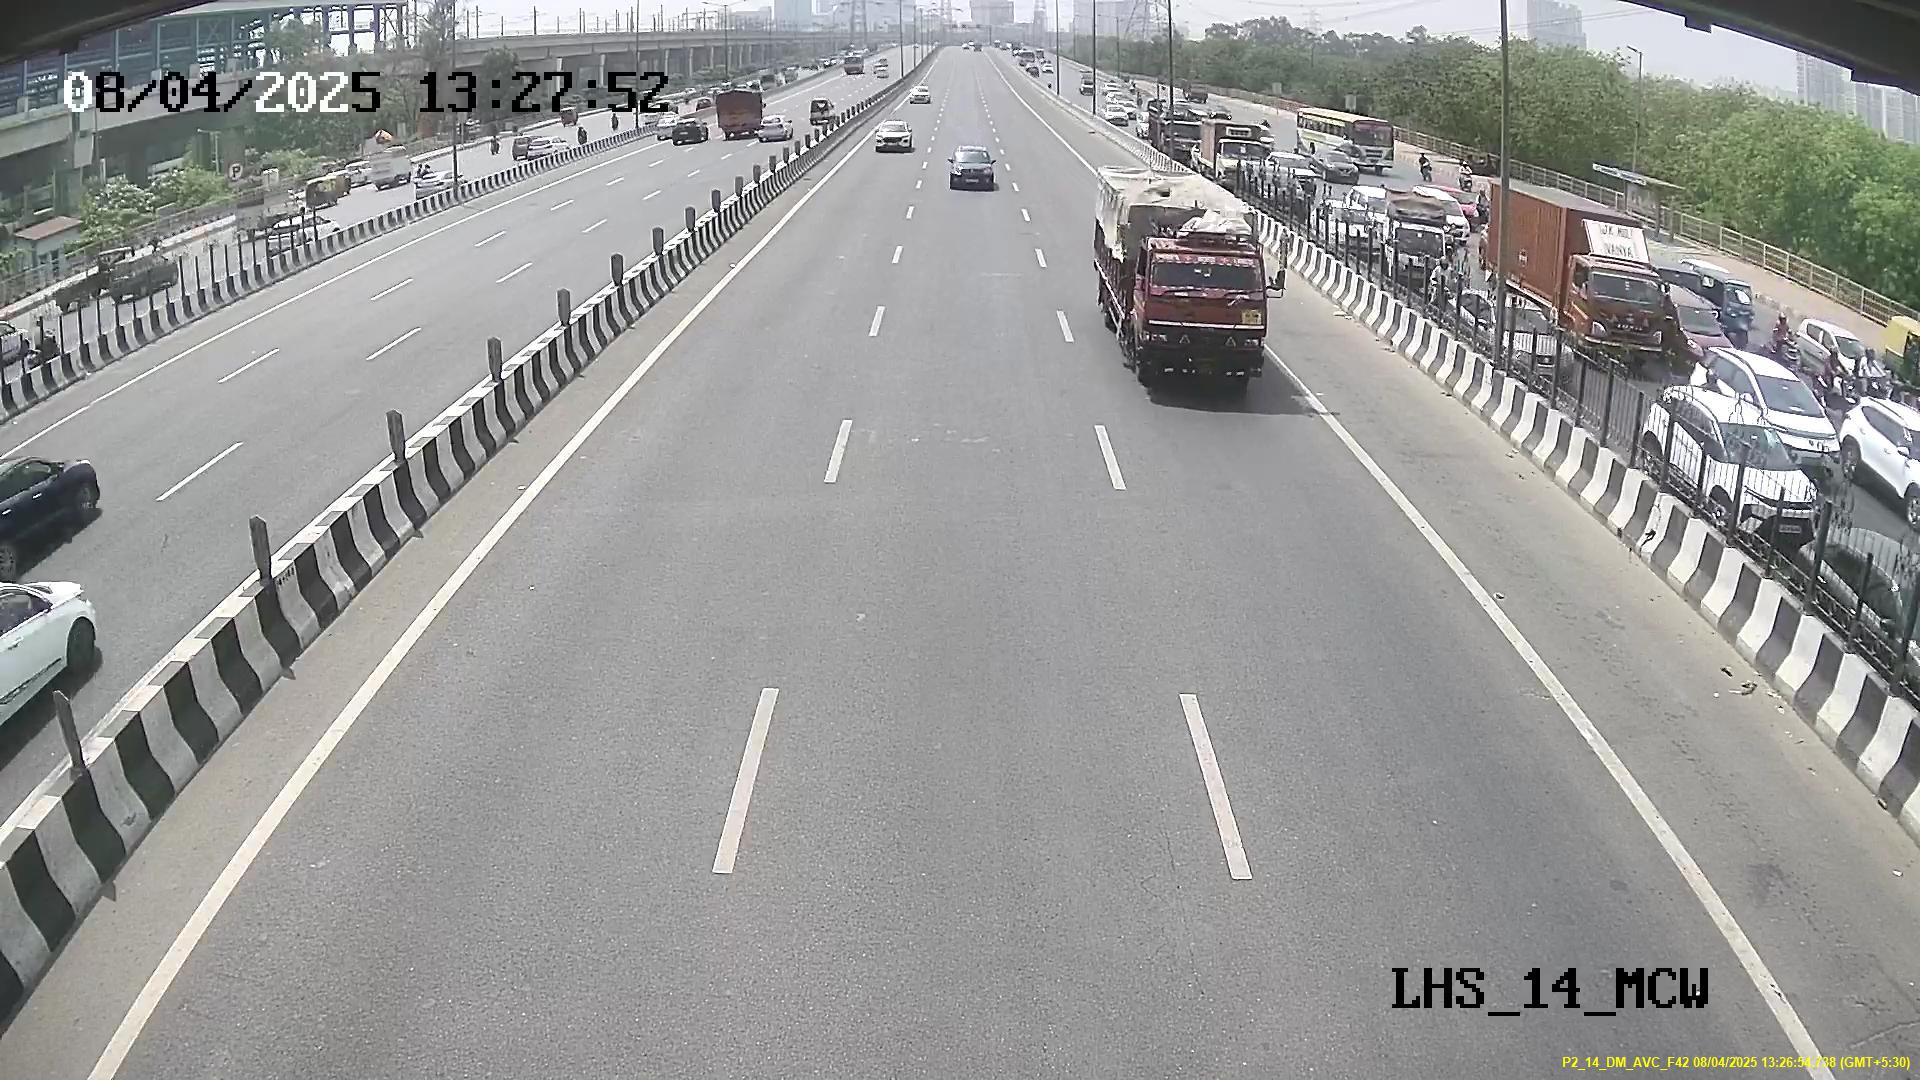lcv: (1133, 235, 1271, 384)
